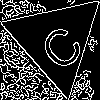C: (31, 15, 87, 74)
